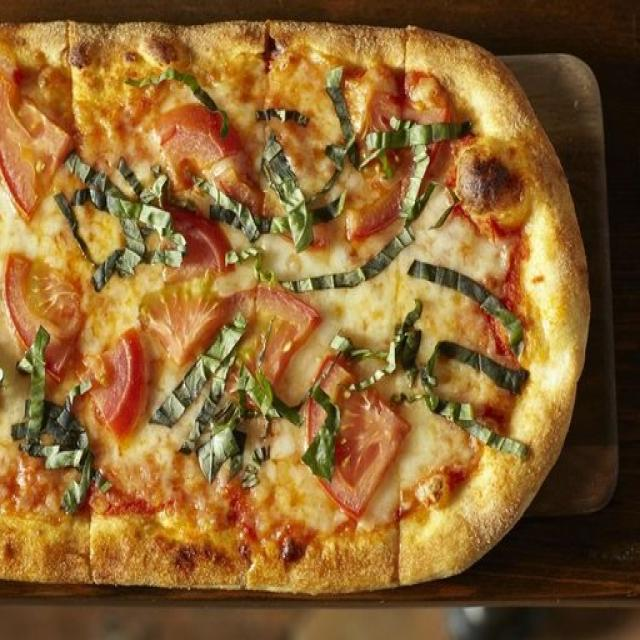Basil: (57, 158, 179, 270), (404, 260, 532, 357), (175, 350, 262, 463), (11, 336, 79, 479), (425, 393, 534, 469), (276, 236, 407, 299), (251, 135, 317, 255), (323, 63, 362, 179), (360, 118, 480, 155), (308, 386, 340, 484), (399, 152, 434, 237), (59, 466, 115, 514), (145, 388, 195, 431)
Pizza: (0, 20, 592, 596)
Tomato: (303, 357, 419, 523), (0, 250, 88, 382), (78, 318, 158, 447), (0, 76, 70, 221), (146, 94, 242, 194), (222, 279, 310, 384), (137, 283, 226, 364)
